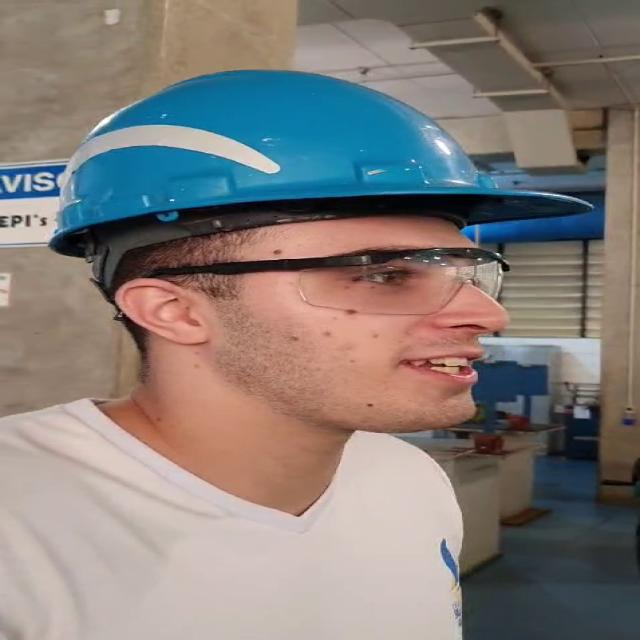oculos-epi: (149, 248, 509, 315)
